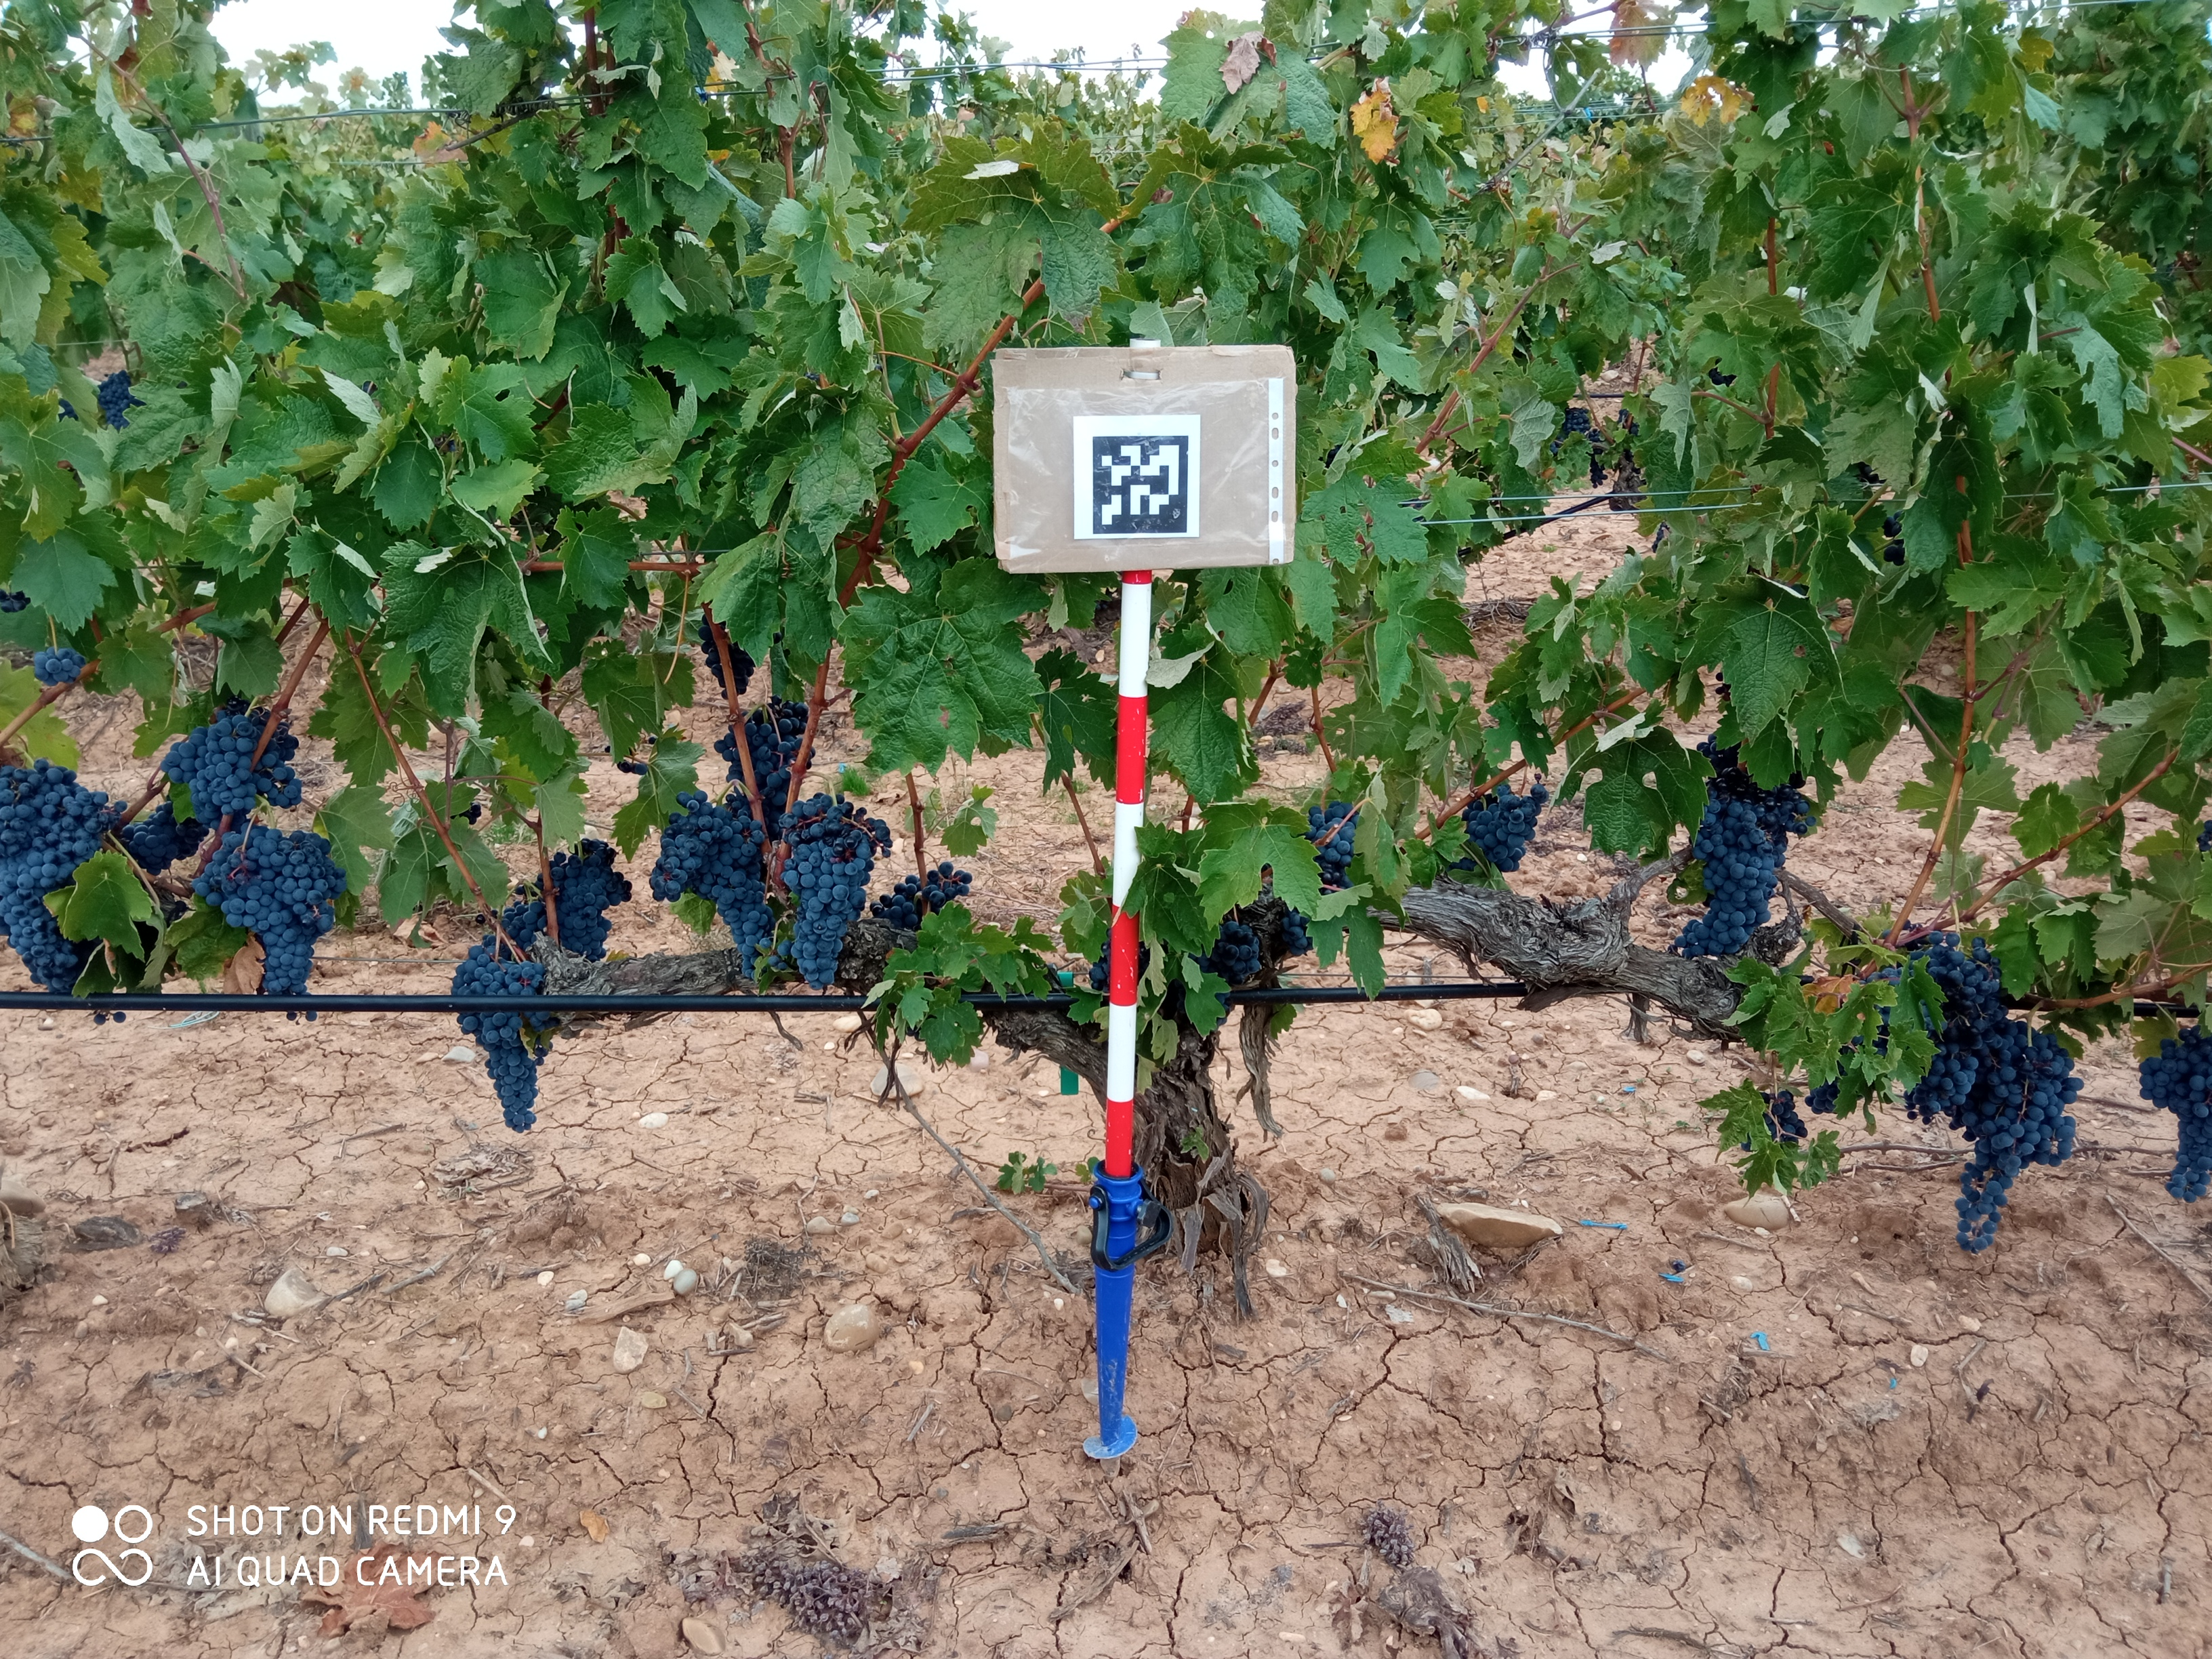grapes: (1926, 939, 2083, 1255), (202, 826, 345, 993), (1686, 774, 1815, 958), (651, 791, 766, 976), (780, 795, 873, 992), (162, 695, 307, 819), (0, 856, 94, 992), (2142, 1025, 2212, 1202), (455, 1011, 552, 1134), (0, 756, 124, 852), (550, 838, 632, 958), (1463, 784, 1552, 870), (864, 863, 974, 929), (745, 704, 801, 819), (444, 936, 543, 993), (124, 800, 200, 870), (1312, 798, 1357, 894), (1204, 918, 1261, 985), (1754, 1086, 1806, 1138), (688, 613, 721, 685), (30, 647, 85, 687), (728, 640, 763, 692), (1693, 728, 1735, 769), (712, 725, 740, 781), (505, 910, 549, 941), (1277, 911, 1310, 951), (1090, 927, 1109, 988), (1806, 1089, 1836, 1115)
